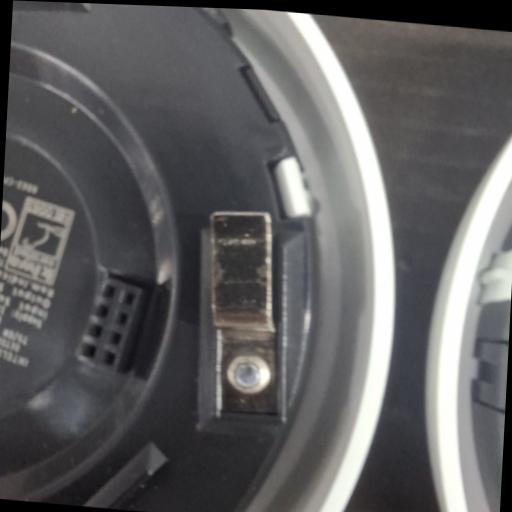yaysiz: (198, 204, 292, 423)
